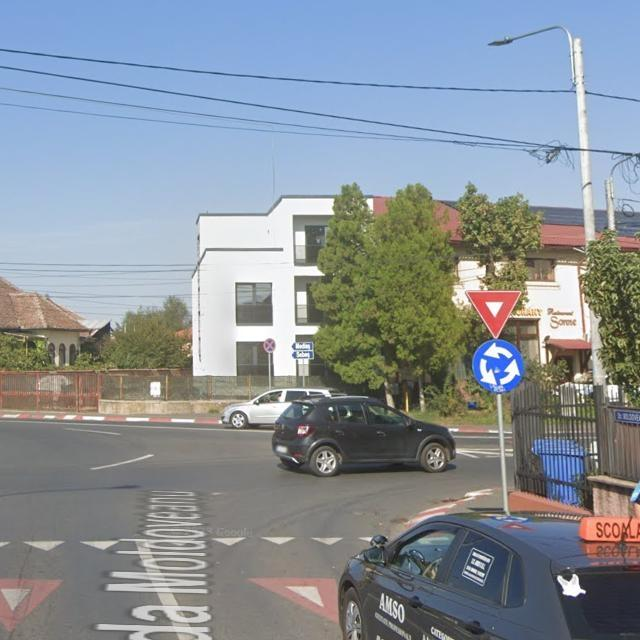forb_waiting: (264, 338, 277, 353)
prio_give_way: (465, 290, 522, 340)
